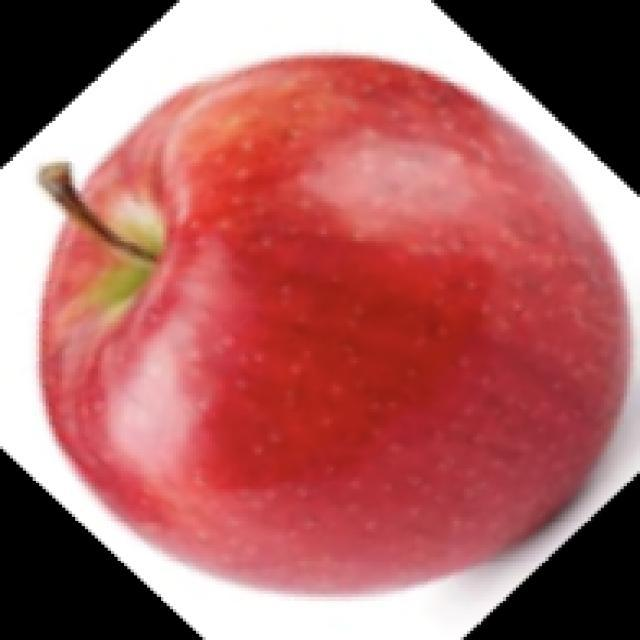Fresh Apple: (74, 35, 618, 595)
